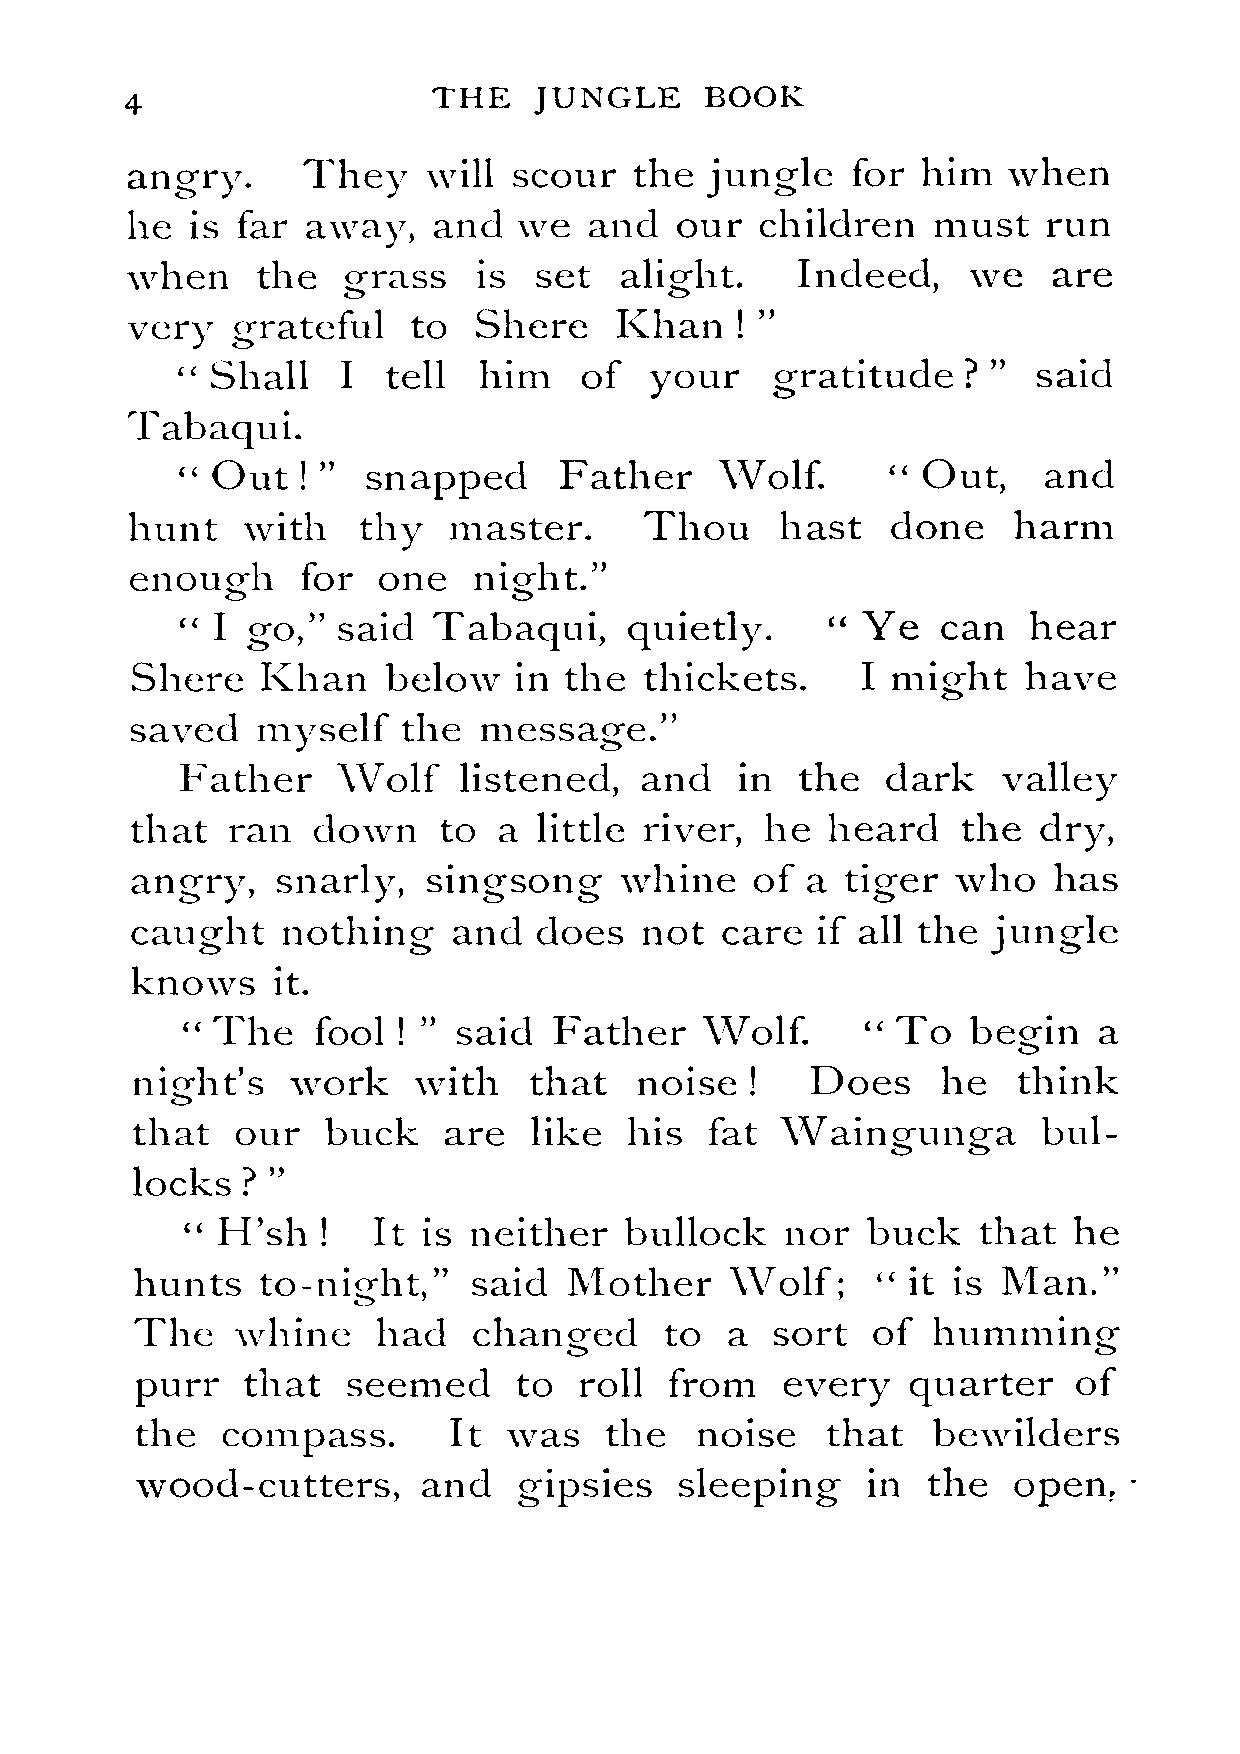content: (119, 154, 1122, 1512)
content_chapter: (425, 79, 805, 118)
content_pagenumber: (119, 93, 148, 115)
